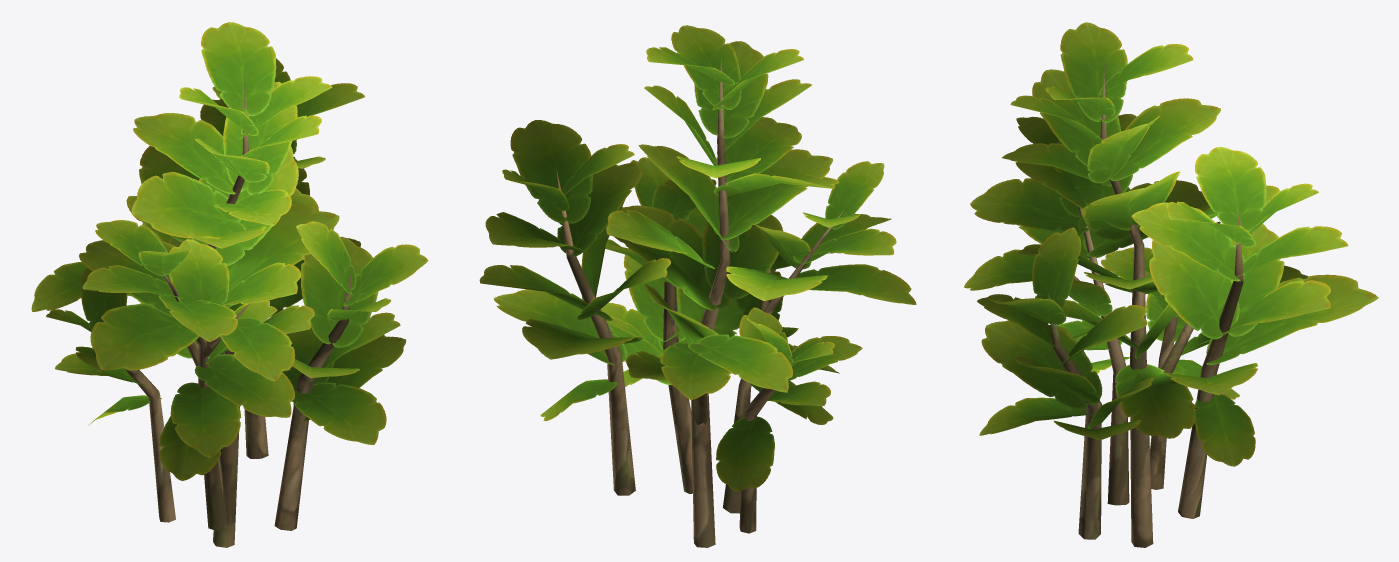
Rendered from P_BushLeafy02_Desert.obj.
3 renders of one model, left to right at view 1: azimuth 30°, elevation 25°; view 2: azimuth 150°, elevation 25°; view 3: azimuth 270°, elevation 25°, orthographic.
Size of the model in its own units: 3.03 by 4.05 by 3.09.
